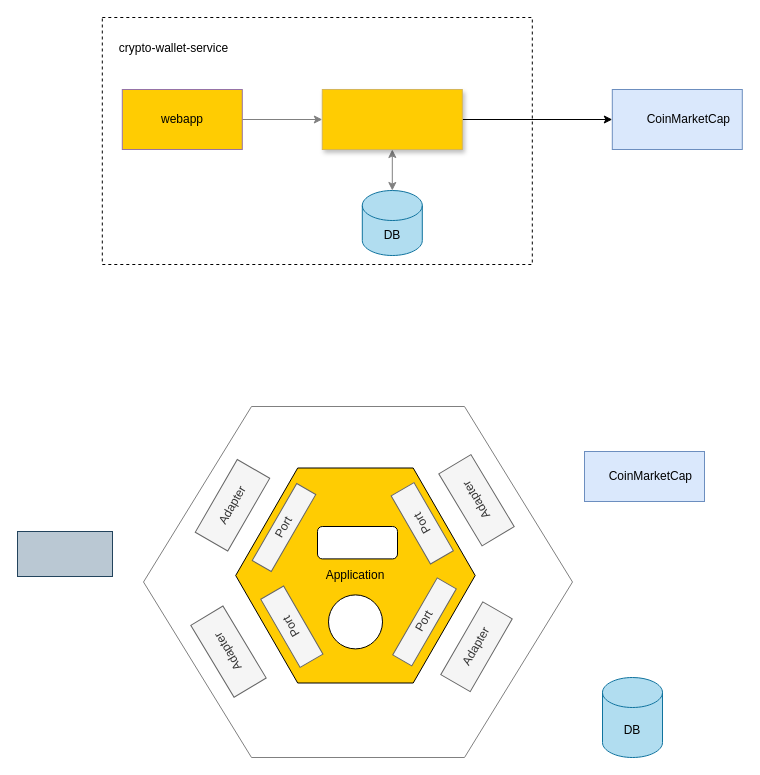
The diagram is 760 pixels wide and 775 high, and some of its shapes have lost their labels. The shapes that lost their labels are listed below. From the top down, each one's centre as x and y in pixels, then its label:
the point at 392,120: service
the point at 64,553: Client
the point at 357,542: business service
the point at 355,621: domain model
